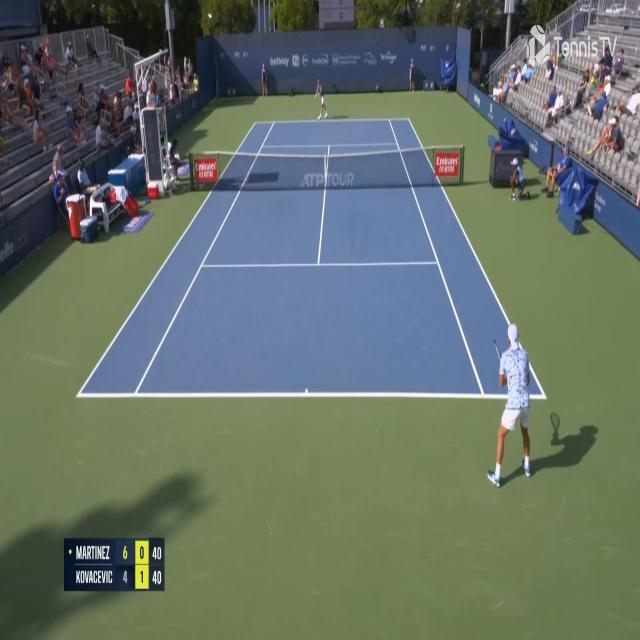tennis-player: (488, 320, 536, 494), (314, 76, 328, 121)
